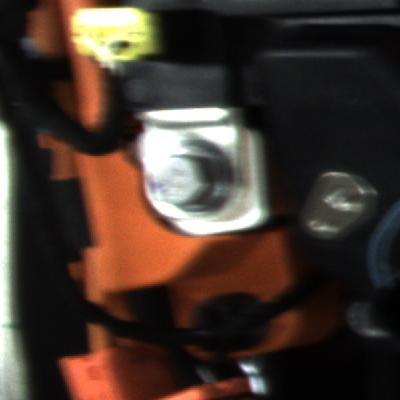nut_b: (152, 142, 245, 219)
